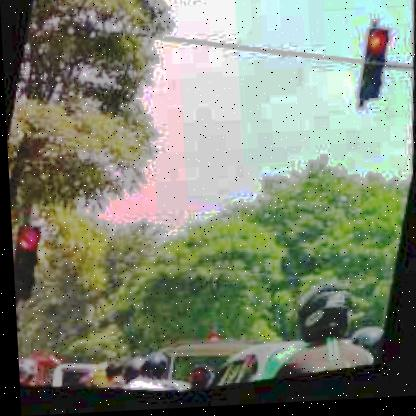Traffic Light -Red-: (355, 36, 396, 113), (9, 223, 45, 303)
